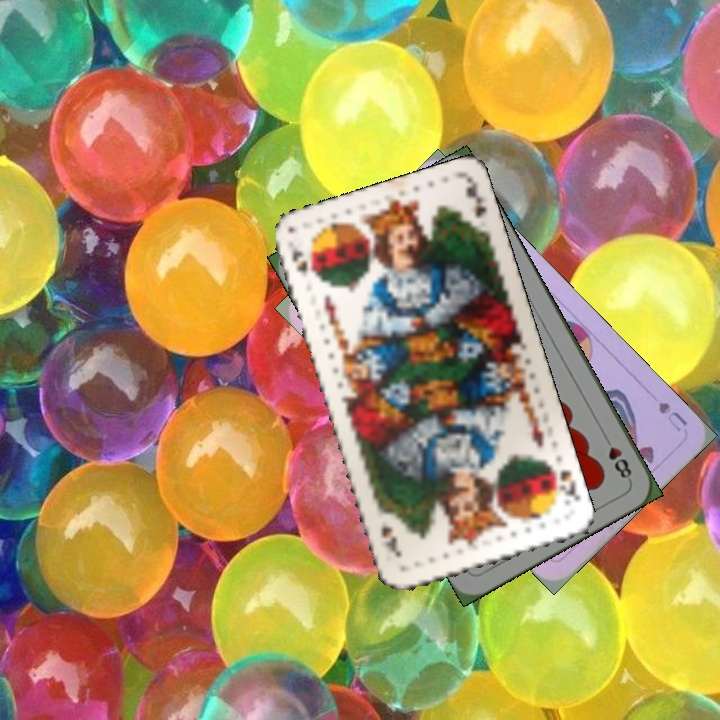H8: (598, 429, 635, 484)
SK: (543, 460, 582, 510), (288, 244, 315, 278)
SU: (654, 398, 690, 435)
